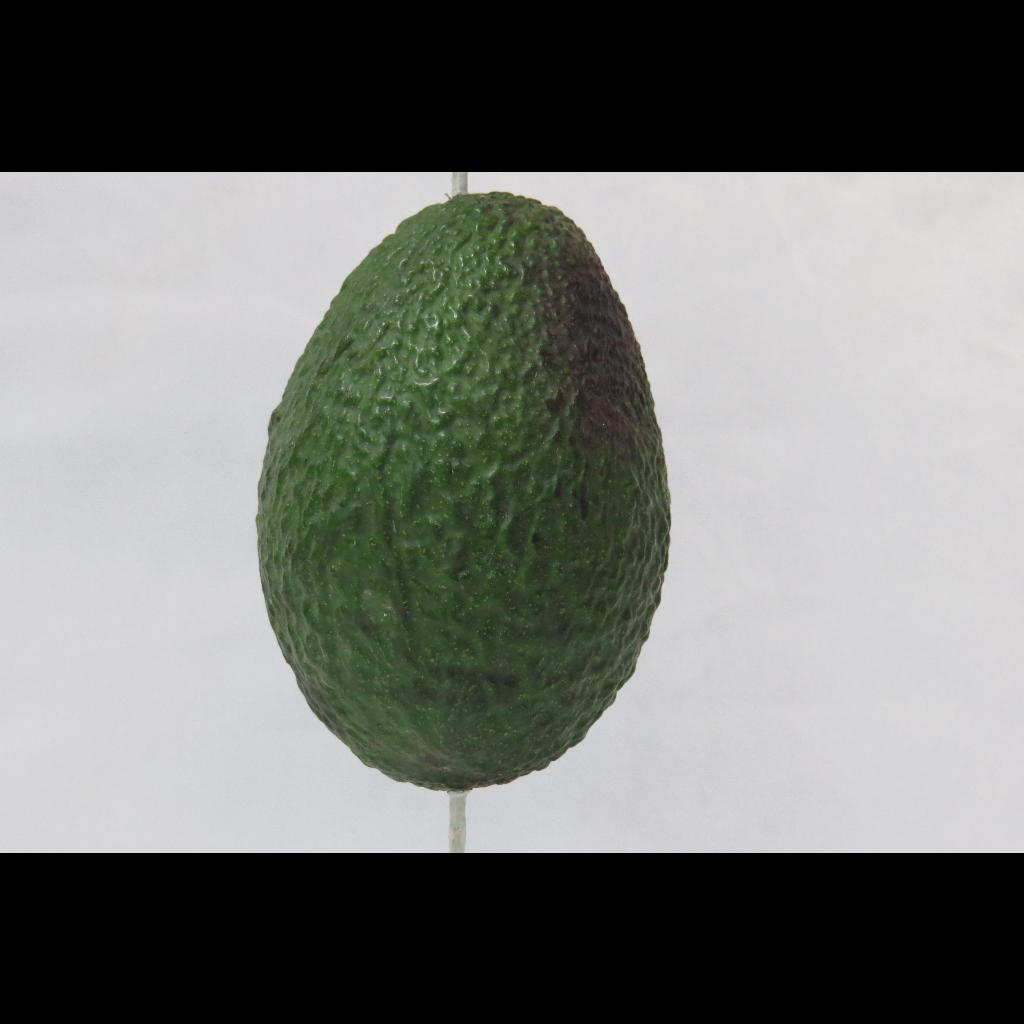Healthy: (234, 172, 688, 822)
